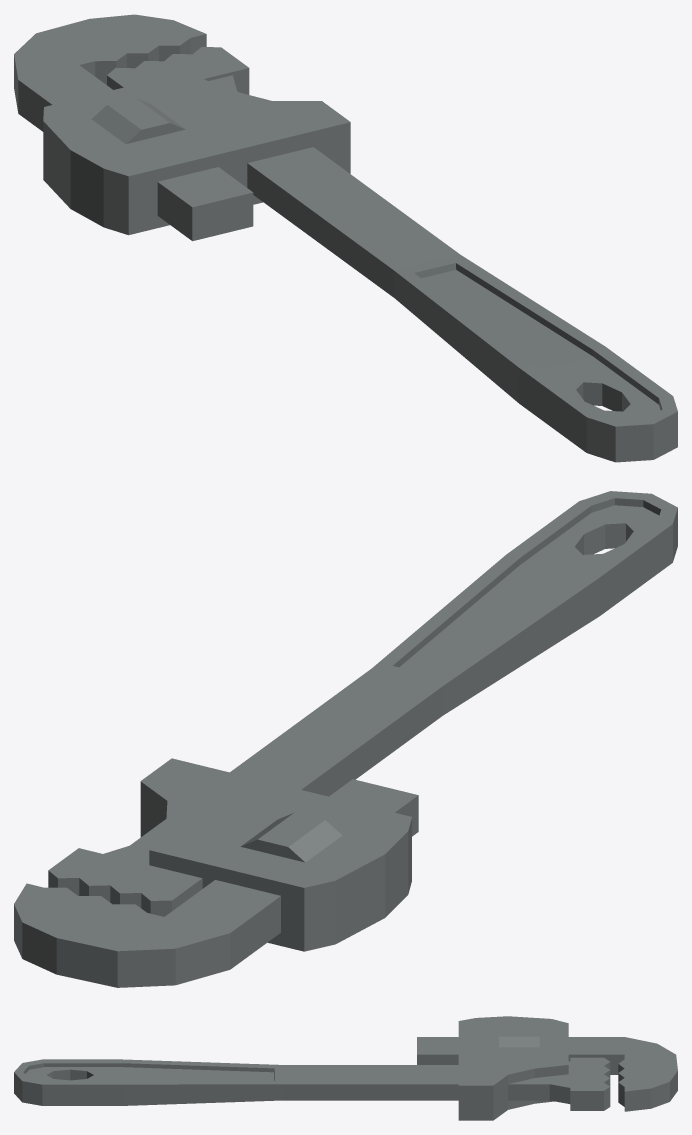
The model's file is scene_4N5qo1sFHY.glb.
The picture shows the model from 3 angles, top to bottom: view 1: azimuth 30°, elevation 25°; view 2: azimuth 150°, elevation 25°; view 3: azimuth 270°, elevation 25°; orthographic projection. The views are drawn at different scales.
Visible parts, largest first — view 1: Pipe_Wrench; view 2: Pipe_Wrench; view 3: Pipe_Wrench.
Part boxes in pixels (<box>): Pipe_Wrench: <box>14,14,677,462</box>; Pipe_Wrench: <box>14,491,677,987</box>; Pipe_Wrench: <box>14,1016,677,1120</box>.
Bounding box in the file's own units: 0.2574 × 0.0832 × 1.04.
1 material, 1 textured.
